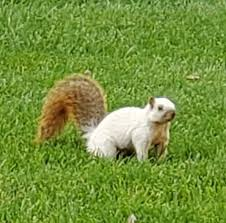squirrel: (36, 72, 177, 163)
